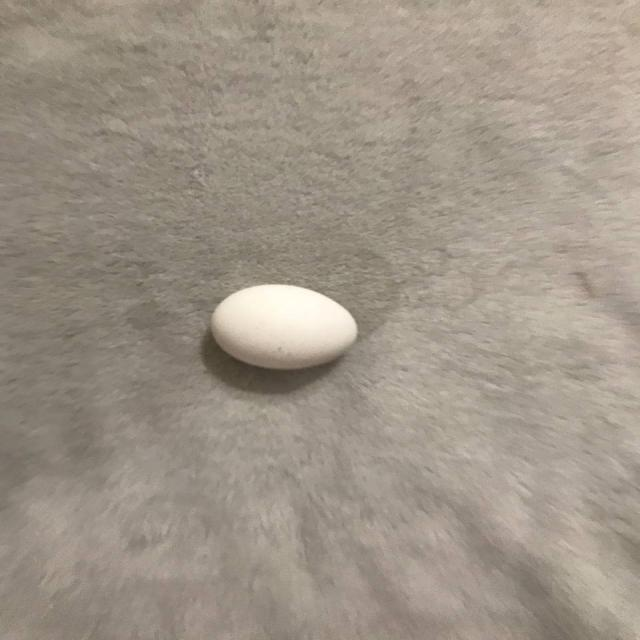egg: (210, 283, 357, 371)
